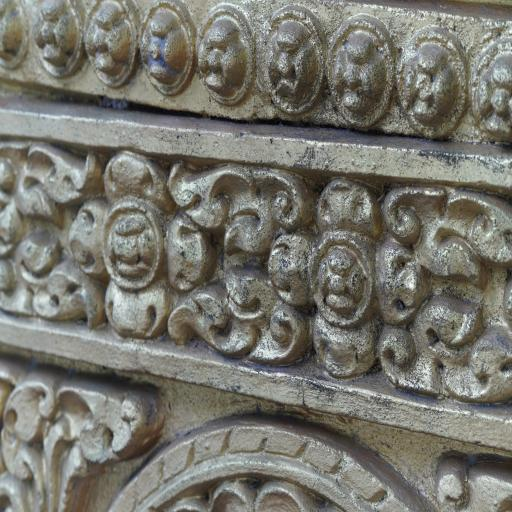hoa: (396, 4, 466, 136), (324, 2, 394, 130), (257, 0, 324, 118), (192, 0, 257, 114), (462, 3, 512, 144), (139, 0, 195, 105), (83, 0, 137, 96), (26, 0, 83, 86), (0, 1, 27, 73)
la: (255, 163, 426, 377), (66, 152, 212, 344), (2, 360, 161, 512), (377, 289, 512, 407), (168, 256, 310, 363), (386, 174, 512, 277), (161, 155, 299, 235), (8, 229, 100, 323), (9, 142, 100, 218)
